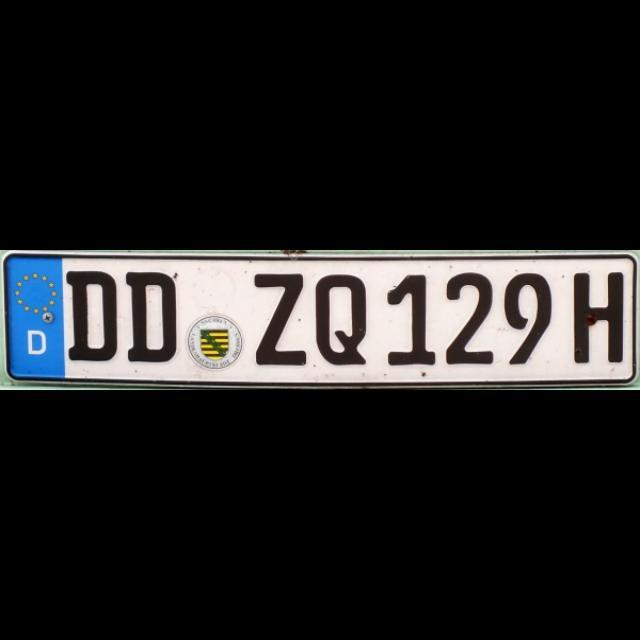license-plates: (4, 255, 636, 385)
